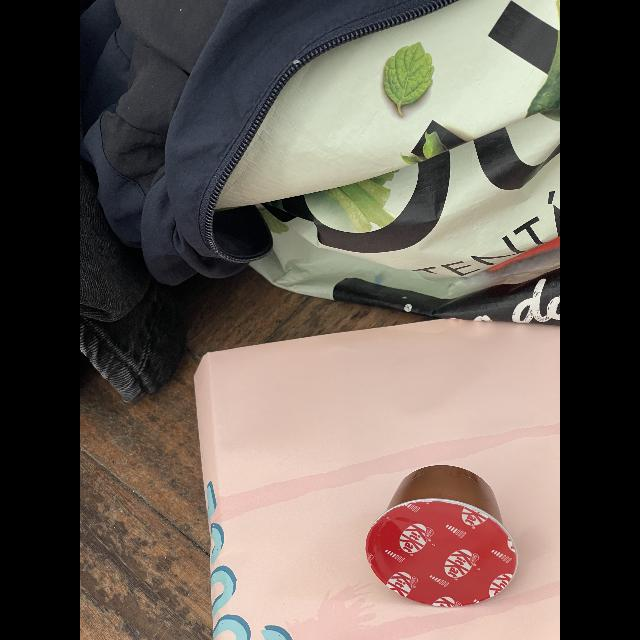intact_capsule: (360, 451, 532, 617)
